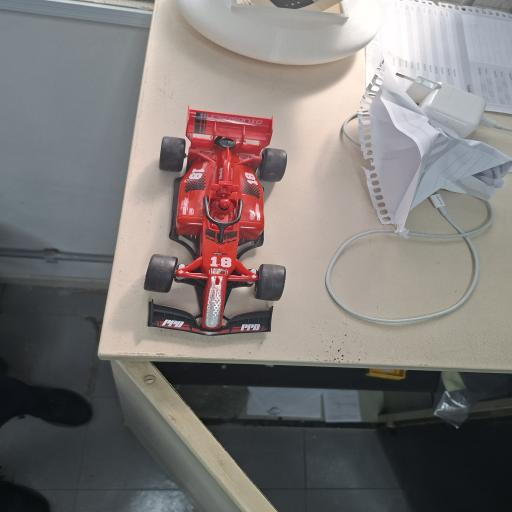carro: (144, 110, 286, 334)
